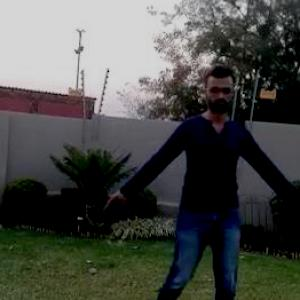land: (113, 75, 299, 299)
